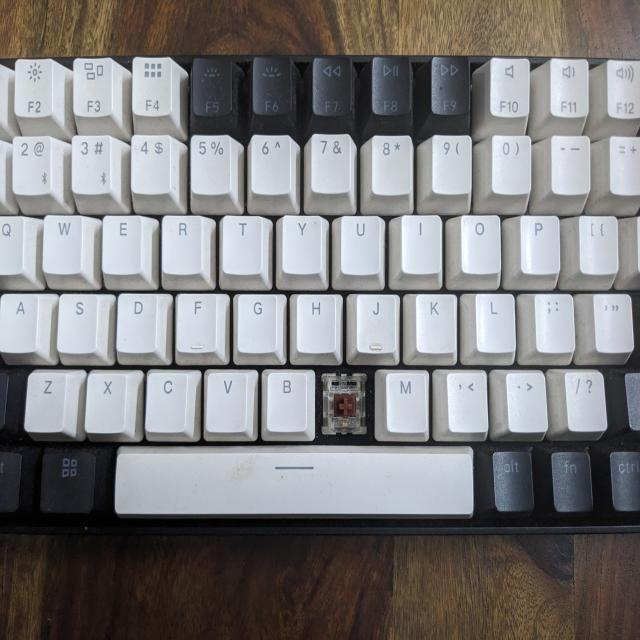key-switch: (322, 373, 365, 436)
